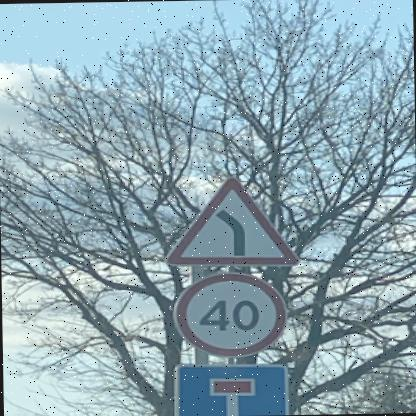speedlimit: (170, 271, 284, 356)
